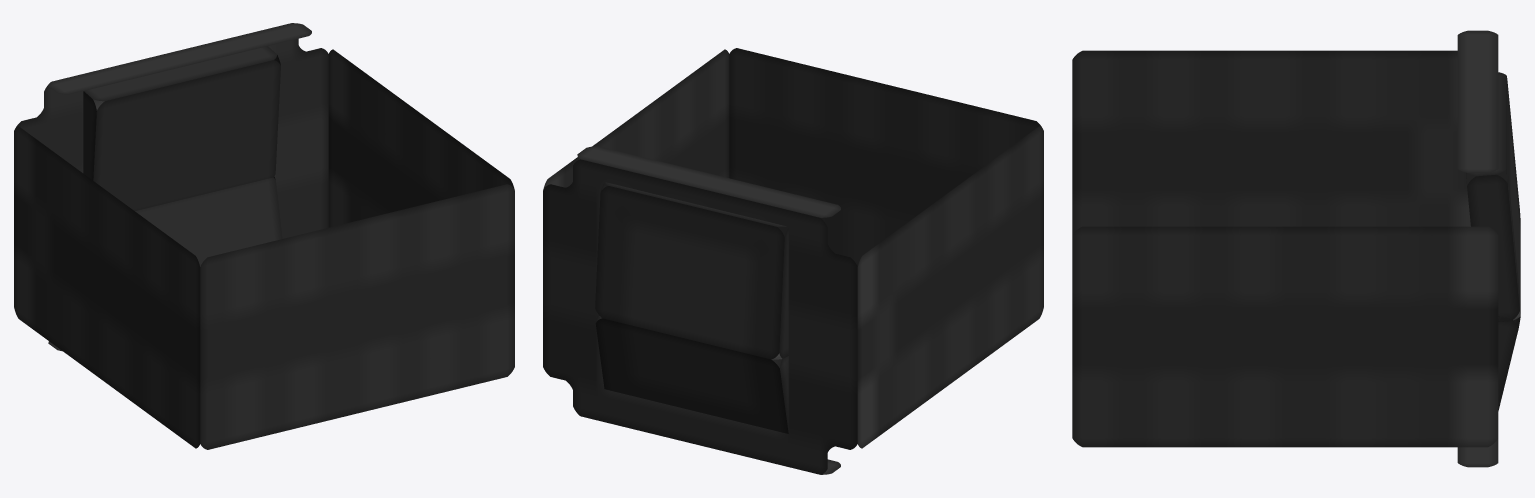
Rendered from a_police_p_l.obj.
3 renders of one model, left to right at view 1: azimuth 30°, elevation 25°; view 2: azimuth 150°, elevation 25°; view 3: azimuth 270°, elevation 25°, orthographic. The views are drawn at different scales.
Visible parts, largest first — view 1: mesh; view 2: mesh; view 3: mesh.
Boxes of the visible parts, left/top/right/bottom form: mesh: left=14, top=23, right=514, bottom=449; mesh: left=543, top=48, right=1043, bottom=474; mesh: left=1072, top=30, right=1520, bottom=467.
Bounding box in the file's own units: 0.3203 × 0.25 × 0.3453.
